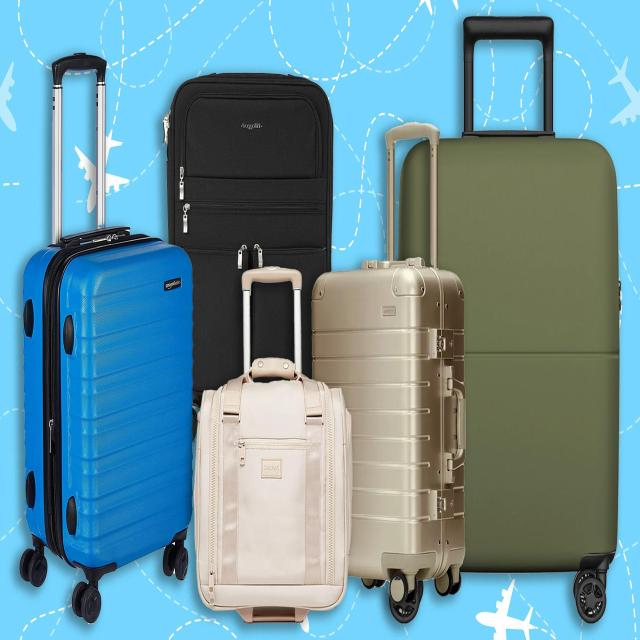luggage: (394, 126, 624, 578), (14, 217, 200, 584), (161, 61, 341, 398), (310, 252, 472, 588), (186, 346, 360, 640)
